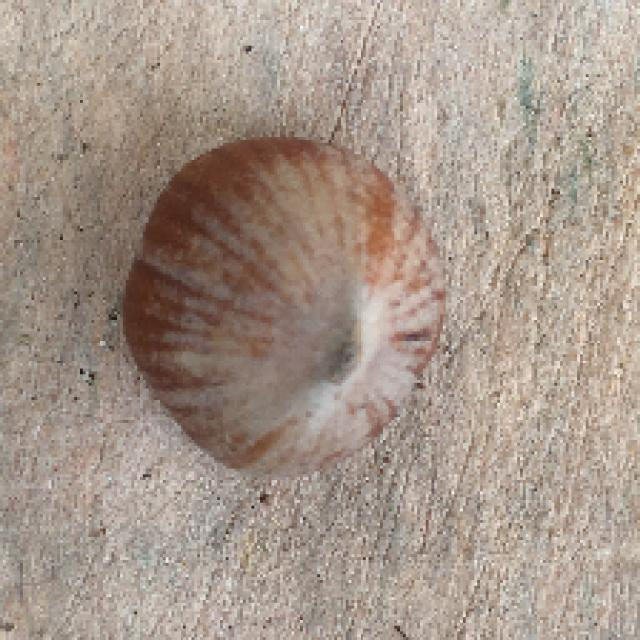QualityHazelnut: (127, 134, 447, 484)
